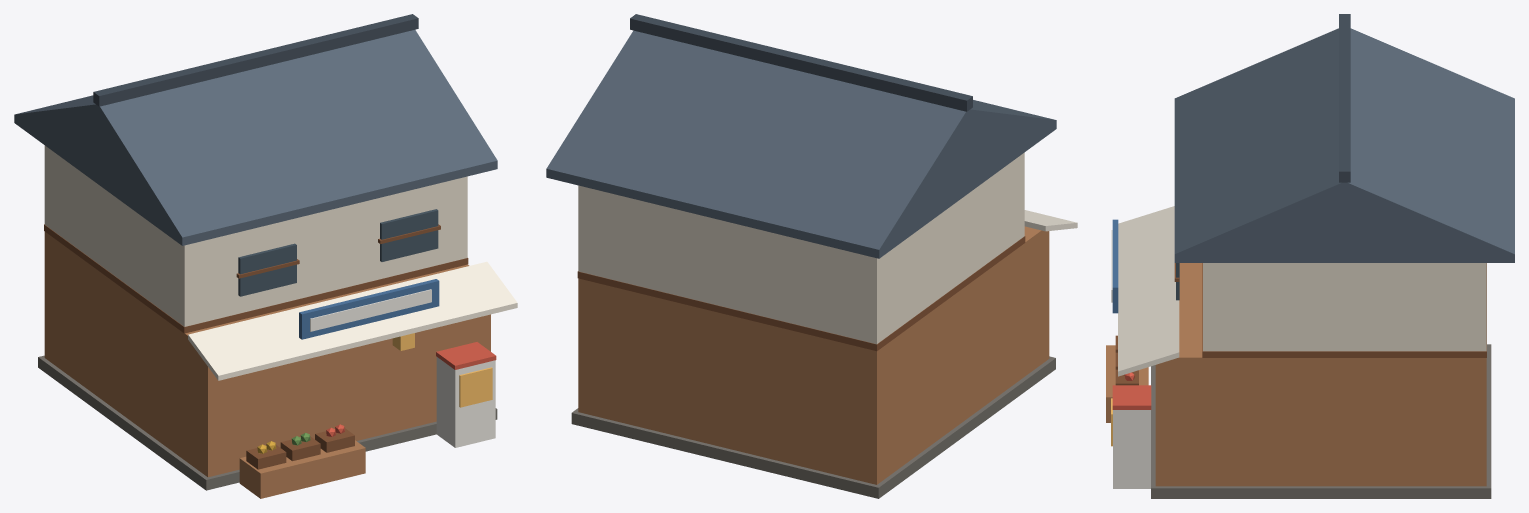
File: harue_general_store.fbx
The picture shows the model from 3 angles, left to right: view 1: azimuth 30°, elevation 25°; view 2: azimuth 150°, elevation 25°; view 3: azimuth 270°, elevation 25°; orthographic projection. The views are drawn at different scales.
Visible parts, largest first — view 1: harue_general_store; view 2: harue_general_store; view 3: harue_general_store.
Boxes of the visible parts, x1,y1,x2,y2 form: harue_general_store: (14, 14, 517, 498); harue_general_store: (546, 14, 1077, 498); harue_general_store: (1106, 14, 1514, 498).
Bounding box in the file's own units: 7.9 × 7.8 × 8.65.
Materials: 2 (2 with a texture image).
